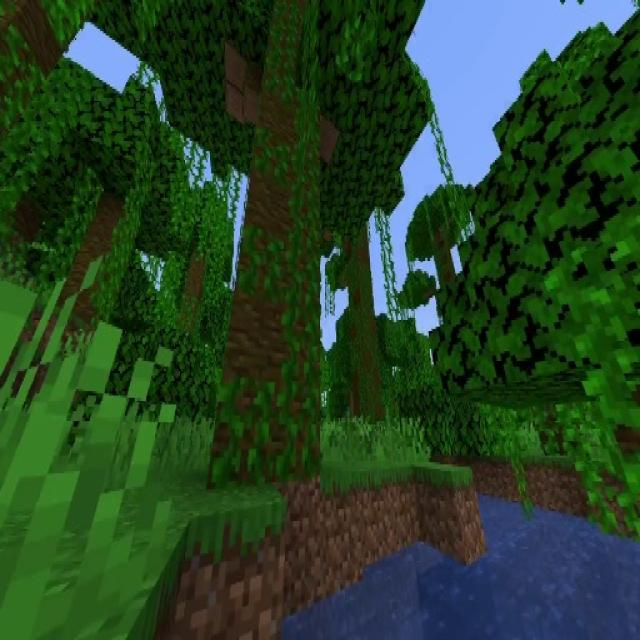jungle: (26, 60, 196, 370), (397, 187, 496, 394)
jungle_log: (219, 6, 324, 487), (31, 181, 143, 410), (342, 235, 372, 420)
